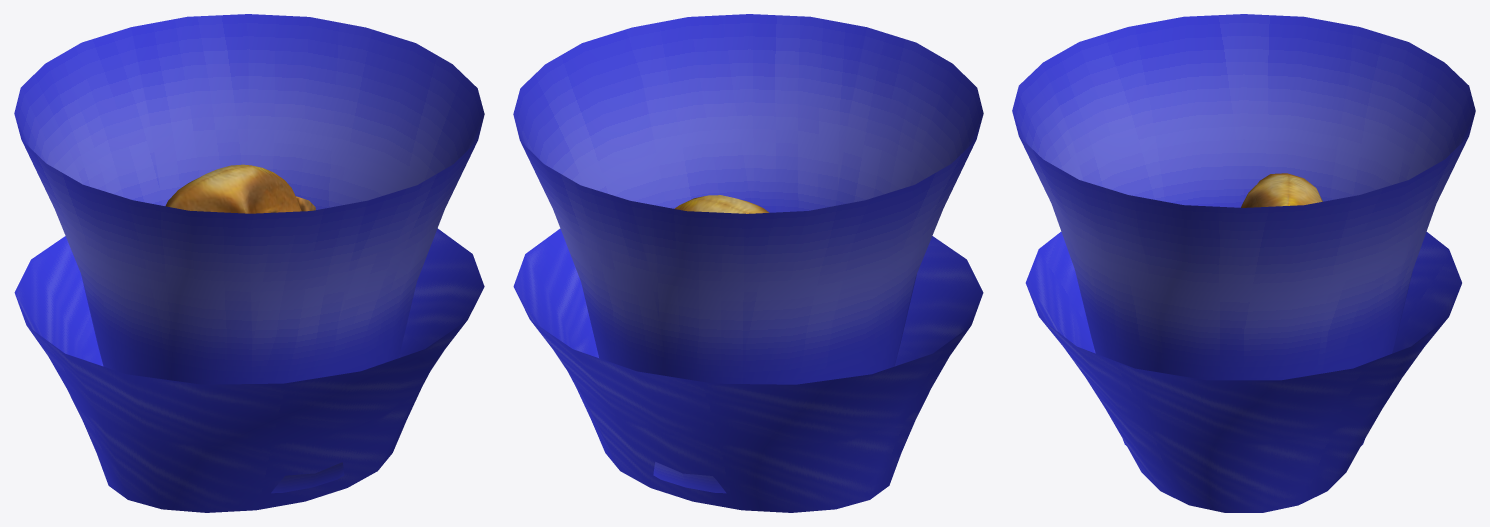
The model's file is Clay Idol.fbx.
The picture shows the model from 3 angles, left to right: view 1: azimuth 30°, elevation 25°; view 2: azimuth 150°, elevation 25°; view 3: azimuth 270°, elevation 25°; orthographic projection. The views are drawn at different scales.
Visible parts, largest first — view 1: Top Effect, Bottom Effect, Body; view 2: Top Effect, Bottom Effect, Body; view 3: Top Effect, Bottom Effect, Body.
Boxes of the visible parts, x1,y1,x2,y2 form: Top Effect: (14,14,484,493); Bottom Effect: (14,228,484,512); Body: (165,164,315,213); Top Effect: (513,14,983,493); Bottom Effect: (513,228,983,512); Body: (674,195,768,213); Top Effect: (1012,14,1475,445); Bottom Effect: (1025,231,1461,512); Body: (1241,173,1322,207).
Size of the model in its own units: 1679 by 1372 by 1690.
Materials: 3 (3 with a texture image).
